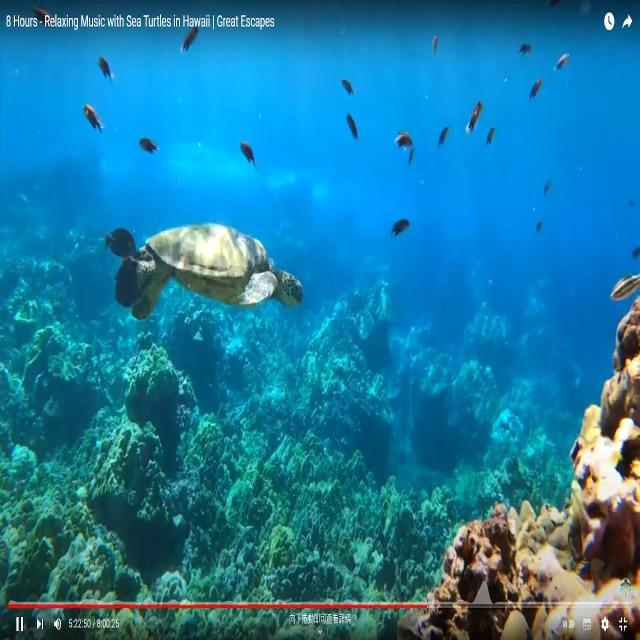Sea turtle: (114, 223, 301, 325)
